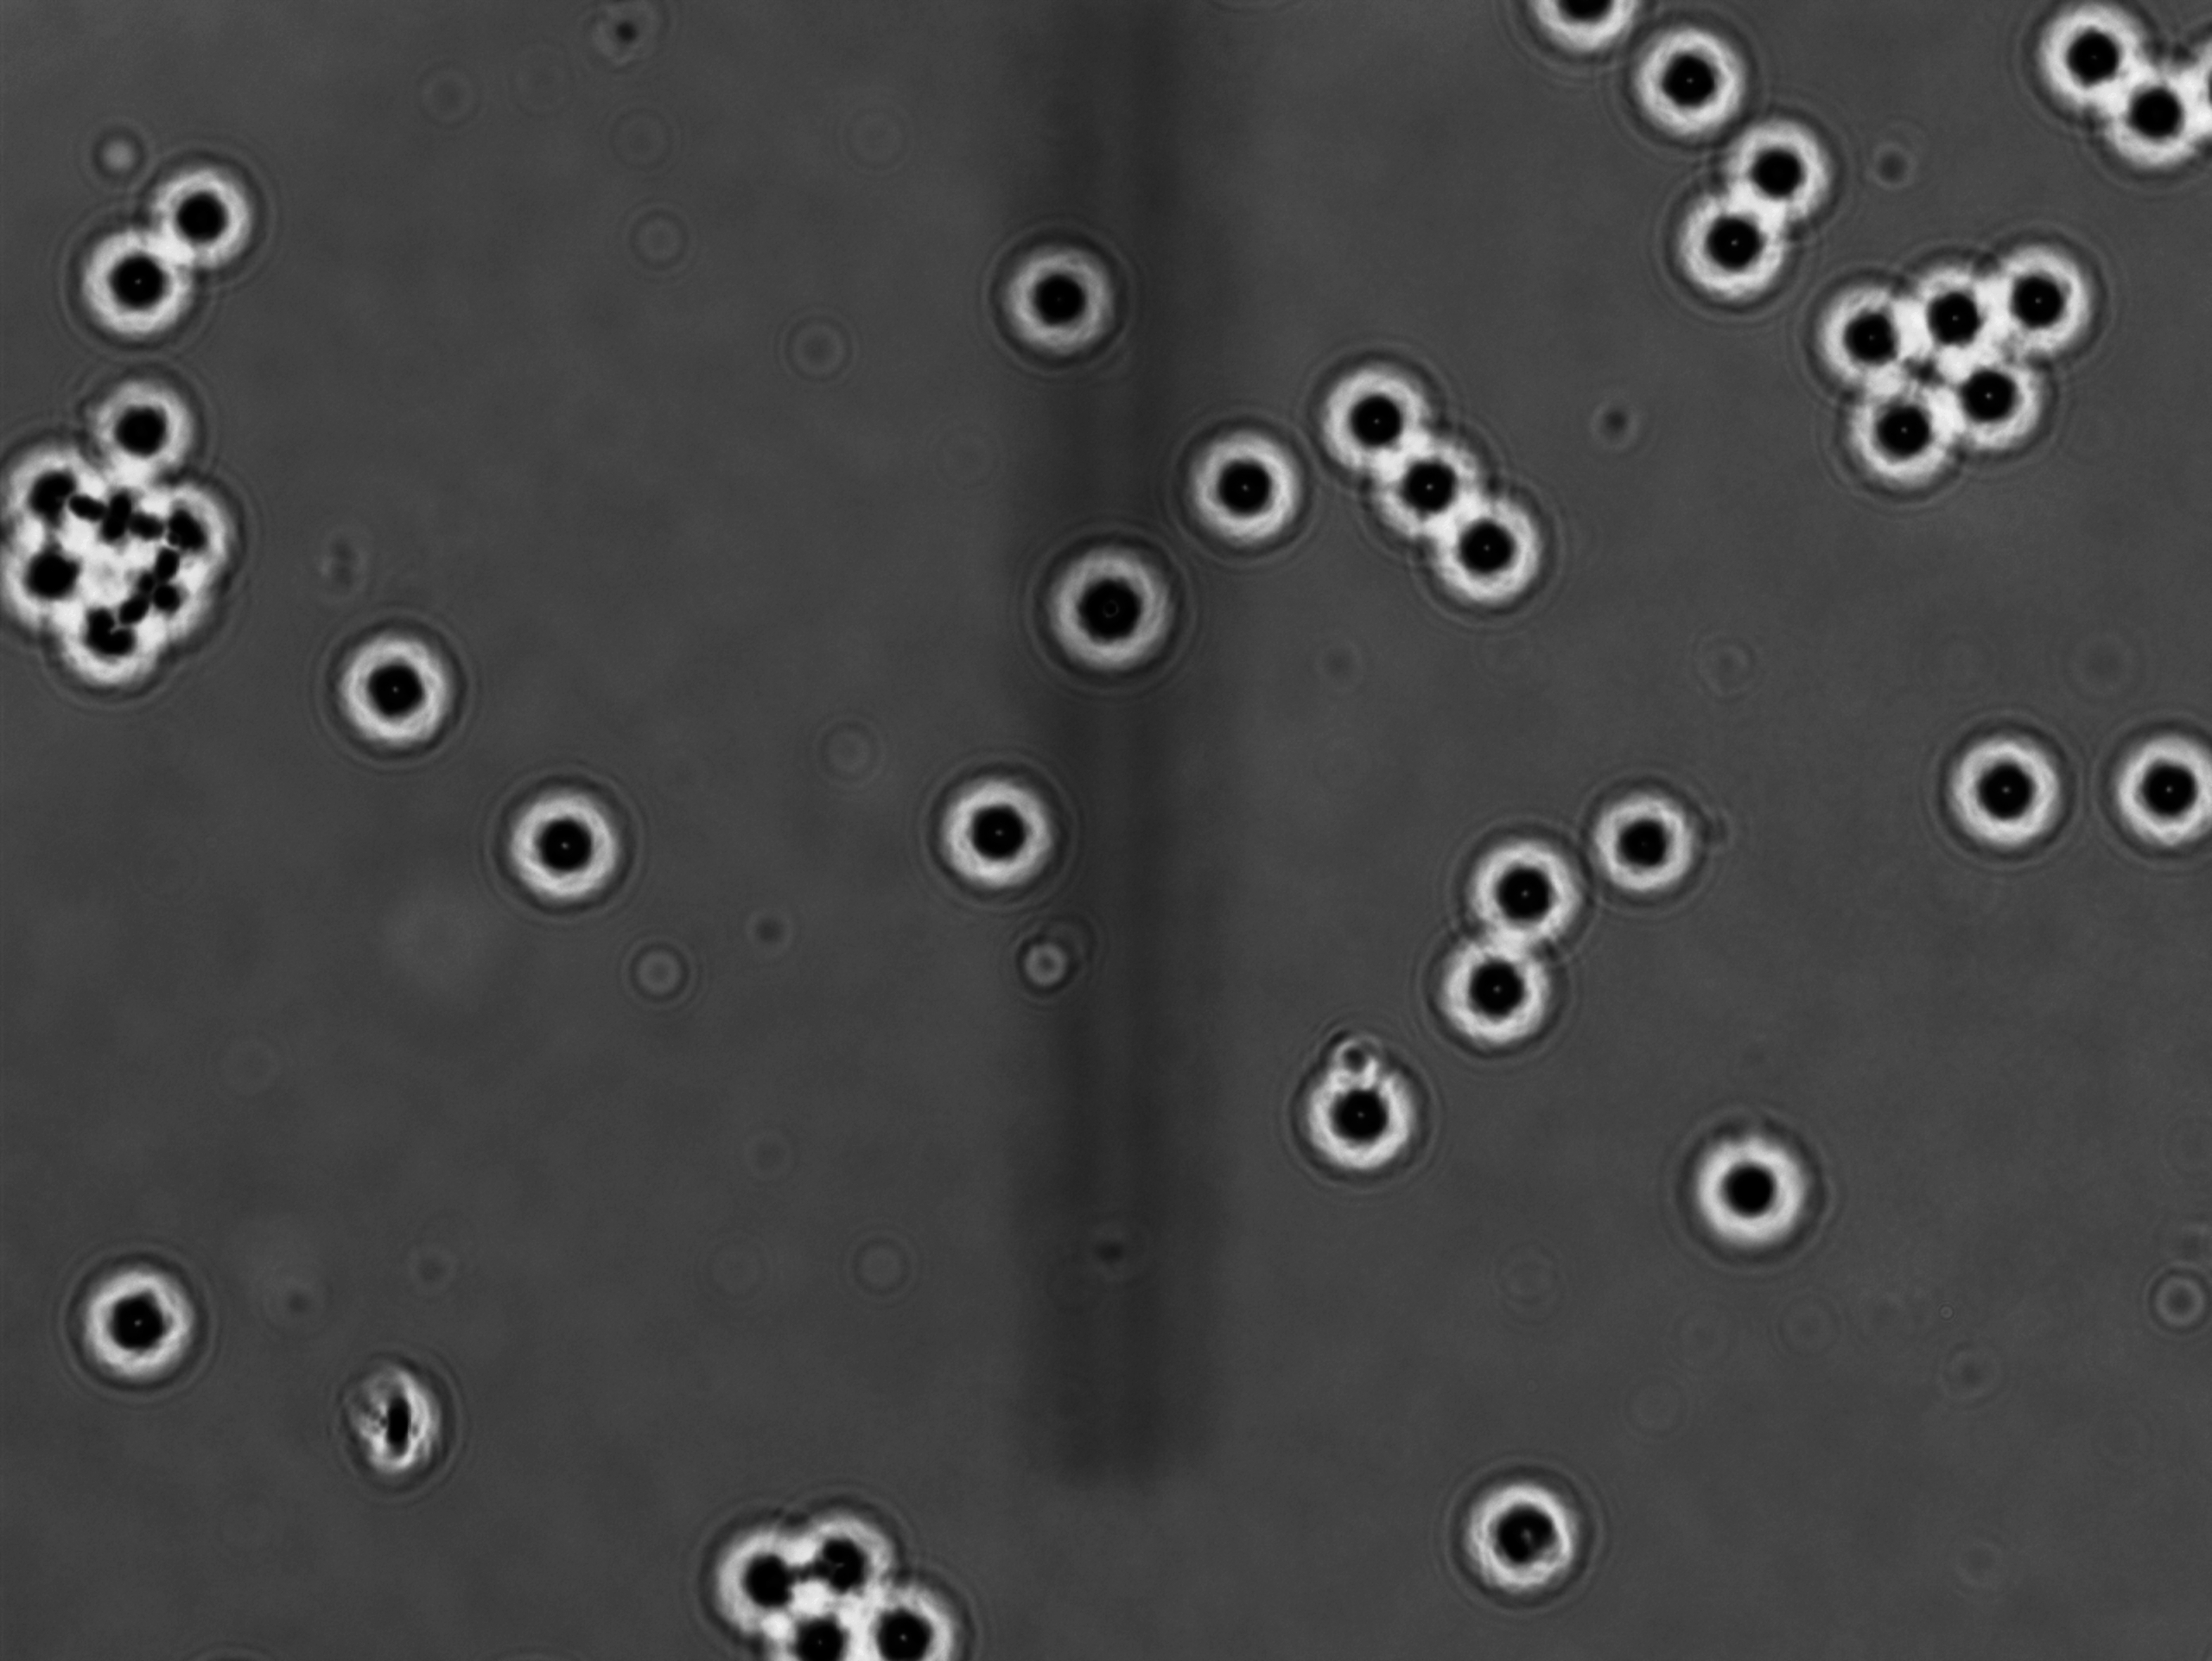depth:-20: (1280, 1022, 1457, 1200), (42, 1234, 222, 1405), (1926, 701, 2097, 876), (1664, 1113, 1835, 1286), (918, 738, 1080, 914), (1976, 209, 2130, 394), (982, 213, 1144, 387), (1441, 1455, 1615, 1612), (1436, 808, 1615, 958), (1021, 534, 1191, 691), (1415, 919, 1580, 1080), (494, 771, 654, 935), (2074, 689, 2212, 878), (319, 611, 481, 769), (1568, 761, 1722, 923), (1835, 372, 1994, 520), (1713, 84, 1867, 234), (1947, 323, 2092, 473), (1291, 354, 1446, 494), (1423, 473, 1568, 619), (1774, 262, 1921, 405), (1654, 174, 1804, 312), (1626, 21, 1778, 157), (1176, 419, 1317, 564), (1348, 420, 1499, 550), (72, 218, 216, 351), (133, 157, 270, 293), (1903, 239, 2050, 366)
